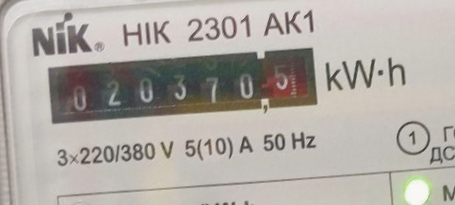0: (236, 71, 256, 102), (69, 82, 88, 112), (137, 75, 154, 104)
2: (103, 77, 123, 110)
3: (169, 71, 188, 102)
5: (271, 61, 291, 93)
7: (203, 74, 220, 106)
screen: (39, 39, 326, 136)
